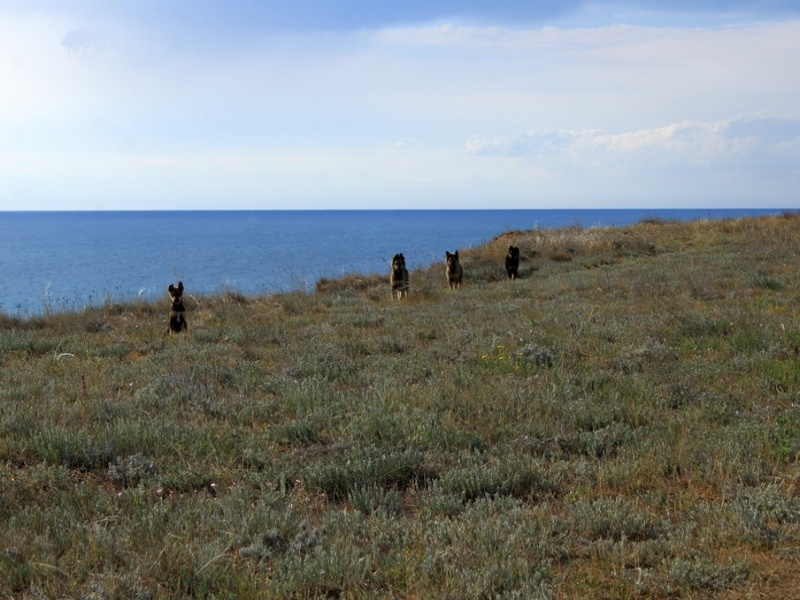dog: (382, 252, 412, 300), (165, 280, 189, 336), (443, 247, 465, 292), (502, 246, 525, 283)
